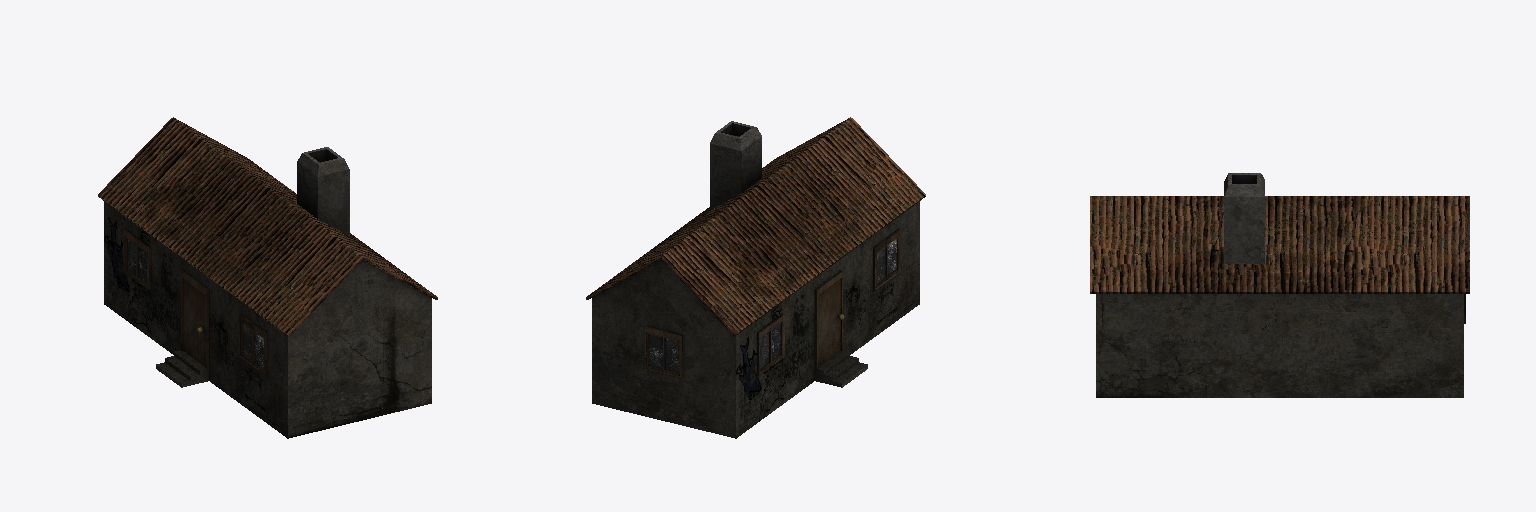
3 views of the same model, side by side, from view 1: azimuth 30°, elevation 25°; view 2: azimuth 150°, elevation 25°; view 3: azimuth 270°, elevation 25° (orthographic).
Parts seen in each view (by area): view 1: Object_house_tex.jpg; view 2: Object_house_tex.jpg; view 3: Object_house_tex.jpg.
Part boxes in pixels (bbox=[...]): Object_house_tex.jpg: bbox=[98, 117, 437, 438]; Object_house_tex.jpg: bbox=[586, 117, 925, 438]; Object_house_tex.jpg: bbox=[1090, 173, 1469, 397].
Bounding box in the file's own units: 1.32 × 1.46 × 2.5.
Materials: 2 (1 with a texture image).